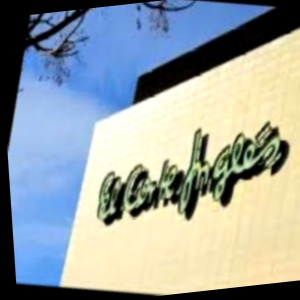corte_ingles: (41, 127, 300, 280)
